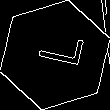L_W: (27, 34, 83, 76)
